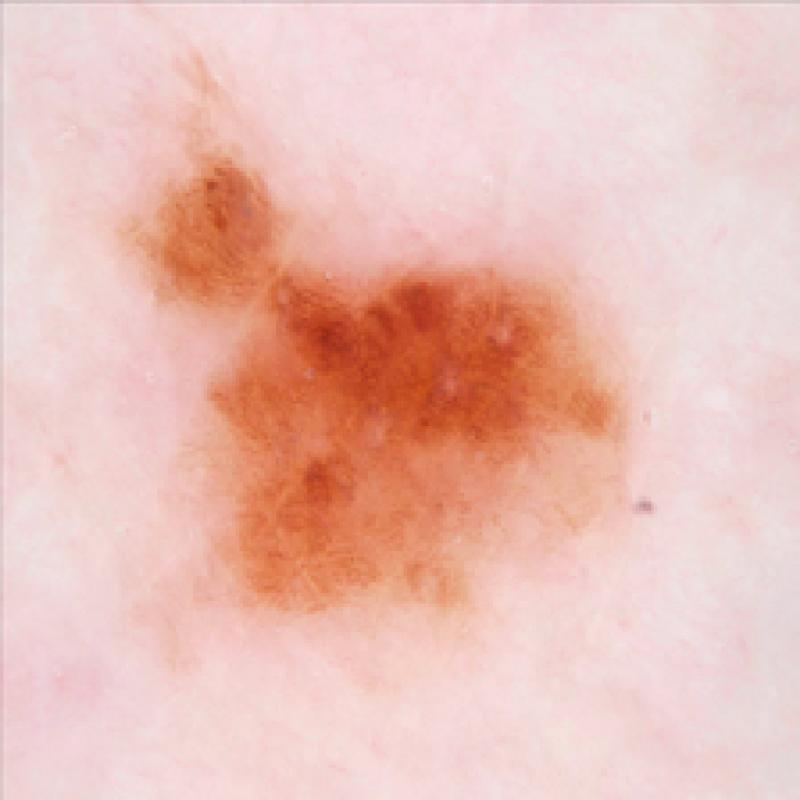benign: (106, 47, 716, 674)
